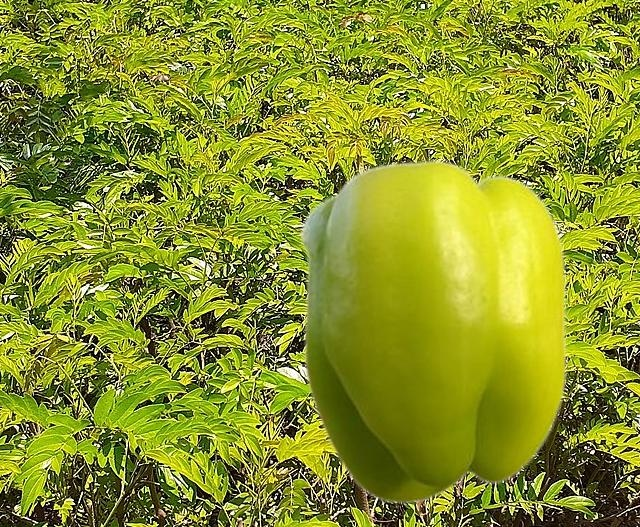bell_pepper: (299, 158, 566, 503)
